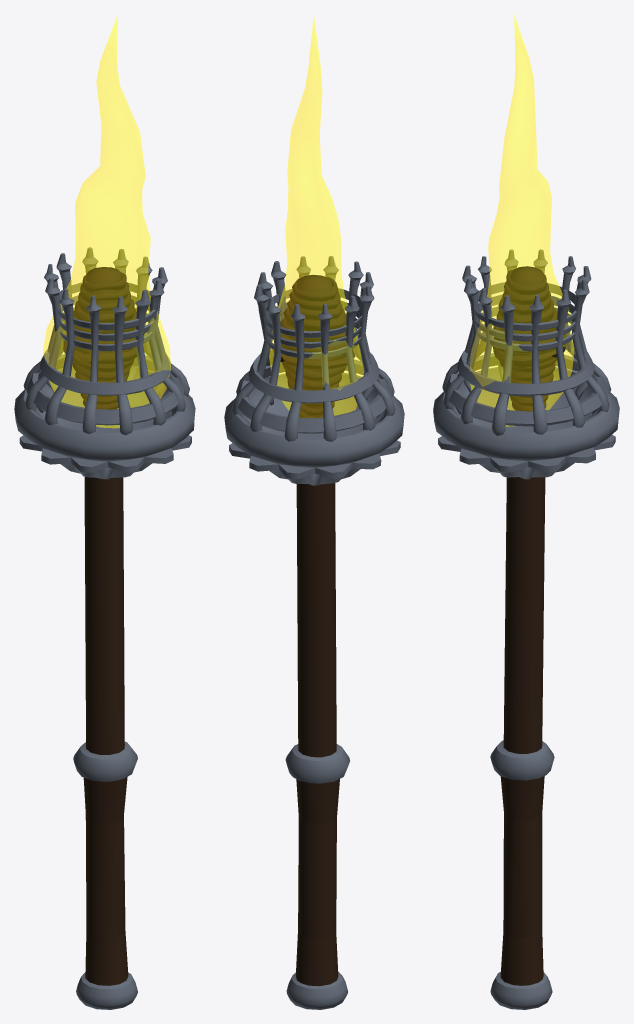
3 renders of one model, left to right at view 1: azimuth 30°, elevation 25°; view 2: azimuth 150°, elevation 25°; view 3: azimuth 270°, elevation 25°, orthographic.
Visible parts, largest first — view 1: torche_metallic_clean_1, torche_wood_leather_2, torche_fire_flame_0; view 2: torche_metallic_clean_1, torche_wood_leather_2, torche_fire_flame_0; view 3: torche_metallic_clean_1, torche_wood_leather_2, torche_fire_flame_0.
Part boxes in pixels (x1,y1,x2,y2): torche_metallic_clean_1: [14, 247, 195, 1009]; torche_wood_leather_2: [63, 267, 136, 985]; torche_fire_flame_0: [43, 15, 170, 428]; torche_metallic_clean_1: [224, 256, 404, 1009]; torche_wood_leather_2: [273, 274, 355, 986]; torche_fire_flame_0: [269, 15, 363, 417]; torche_metallic_clean_1: [433, 249, 619, 1009]; torche_wood_leather_2: [492, 266, 565, 985]; torche_fire_flame_0: [470, 14, 574, 426].
Size of the model in its own units: 1.99 by 12.06 by 2.06.
